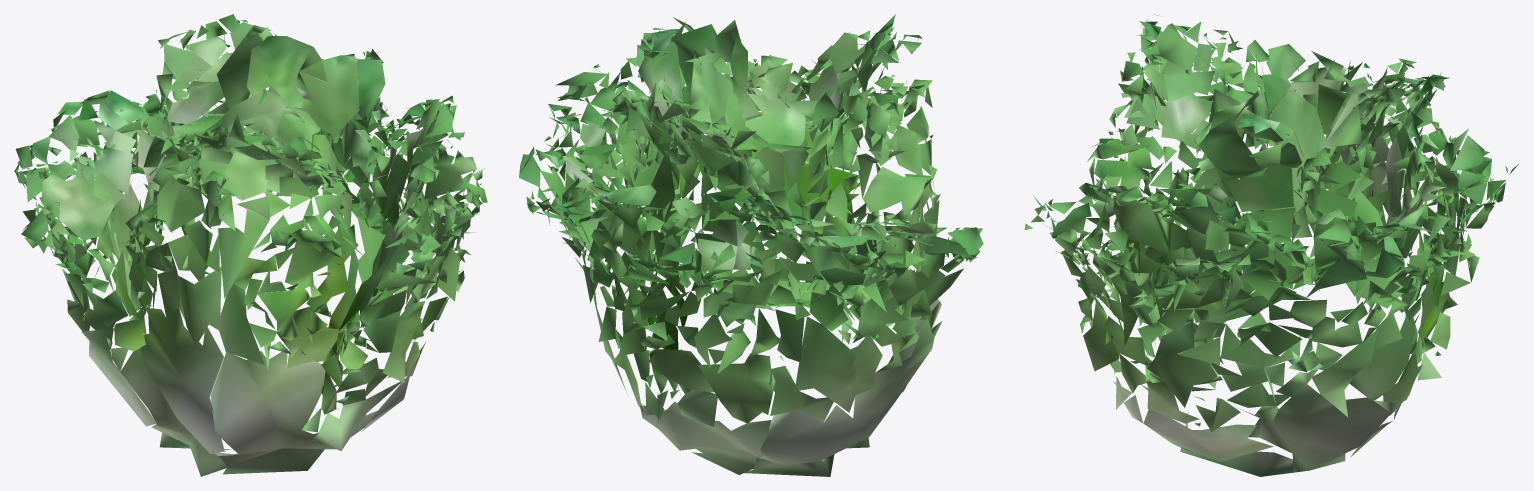
The model's file is baicai.glb.
3 renders of one model, left to right at view 1: azimuth 30°, elevation 25°; view 2: azimuth 150°, elevation 25°; view 3: azimuth 270°, elevation 25°, orthographic. The views are drawn at different scales.
Parts seen in each view (by area): view 1: tripo_node_ecc737a4-6c8a-4eb1-9e82-3213425cce2e; view 2: tripo_node_ecc737a4-6c8a-4eb1-9e82-3213425cce2e; view 3: tripo_node_ecc737a4-6c8a-4eb1-9e82-3213425cce2e.
Boxes of the visible parts, left/top/right/bottom form: tripo_node_ecc737a4-6c8a-4eb1-9e82-3213425cce2e: left=14, top=14, right=487, bottom=476; tripo_node_ecc737a4-6c8a-4eb1-9e82-3213425cce2e: left=519, top=14, right=983, bottom=476; tripo_node_ecc737a4-6c8a-4eb1-9e82-3213425cce2e: left=1024, top=14, right=1518, bottom=476.
Size of the model in its own units: 1 by 0.9284 by 1.02.
Materials: 1 (1 with a texture image).
